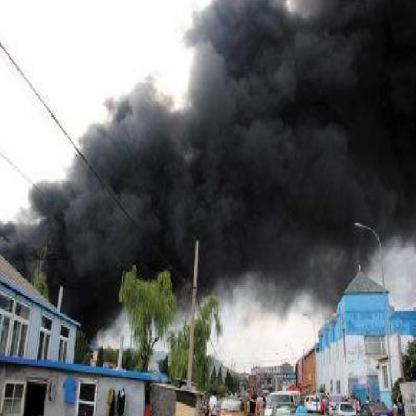smoke: (183, 3, 412, 176), (131, 181, 366, 311), (8, 180, 127, 334), (62, 87, 181, 180), (368, 180, 414, 250)
